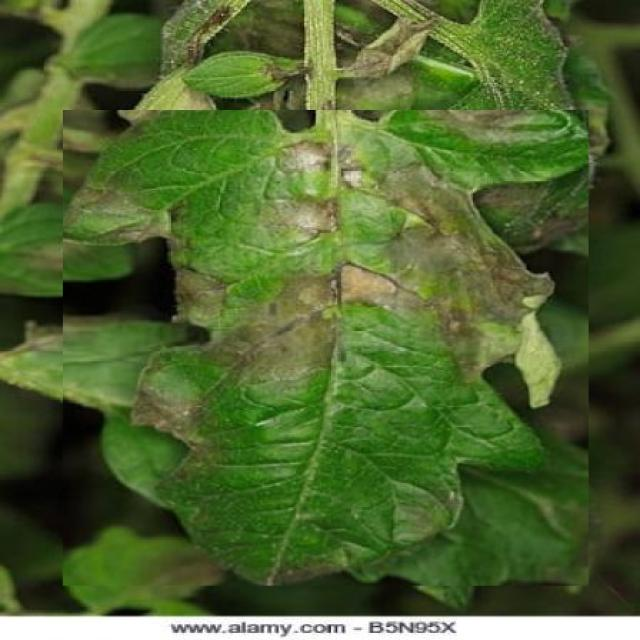Late Blight: (63, 110, 588, 586)
